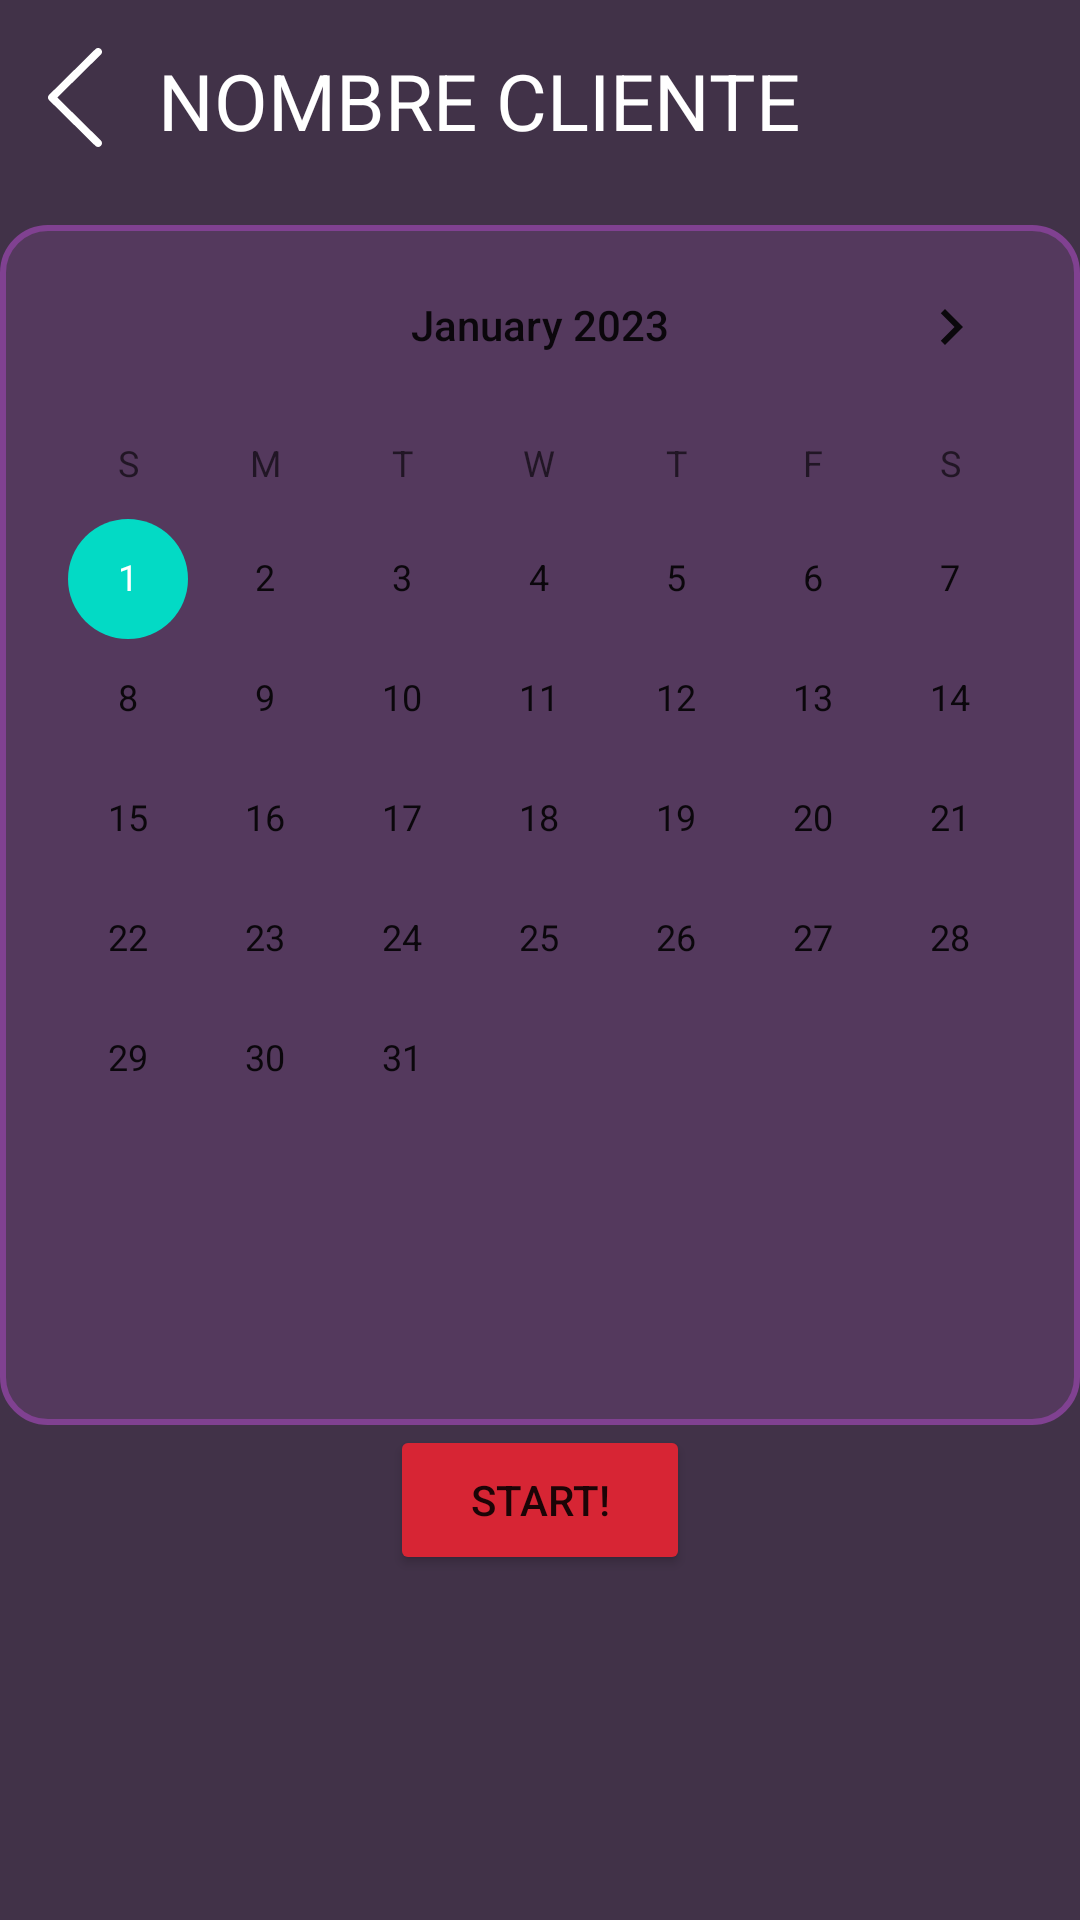

Where icons sit on this 1080w x 1920h app screen, as (x1, y1, x2, y2):
back: (48, 48, 102, 147)
